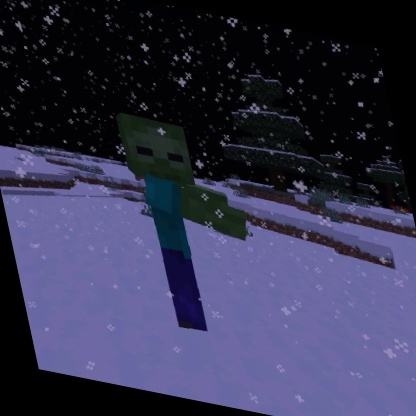zombie: (107, 105, 281, 353)
